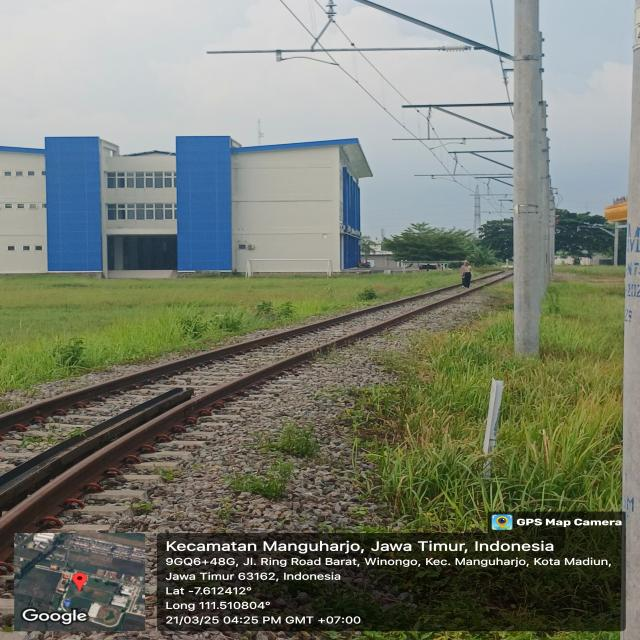rail-detection: (0, 272, 510, 560), (0, 285, 460, 435)
